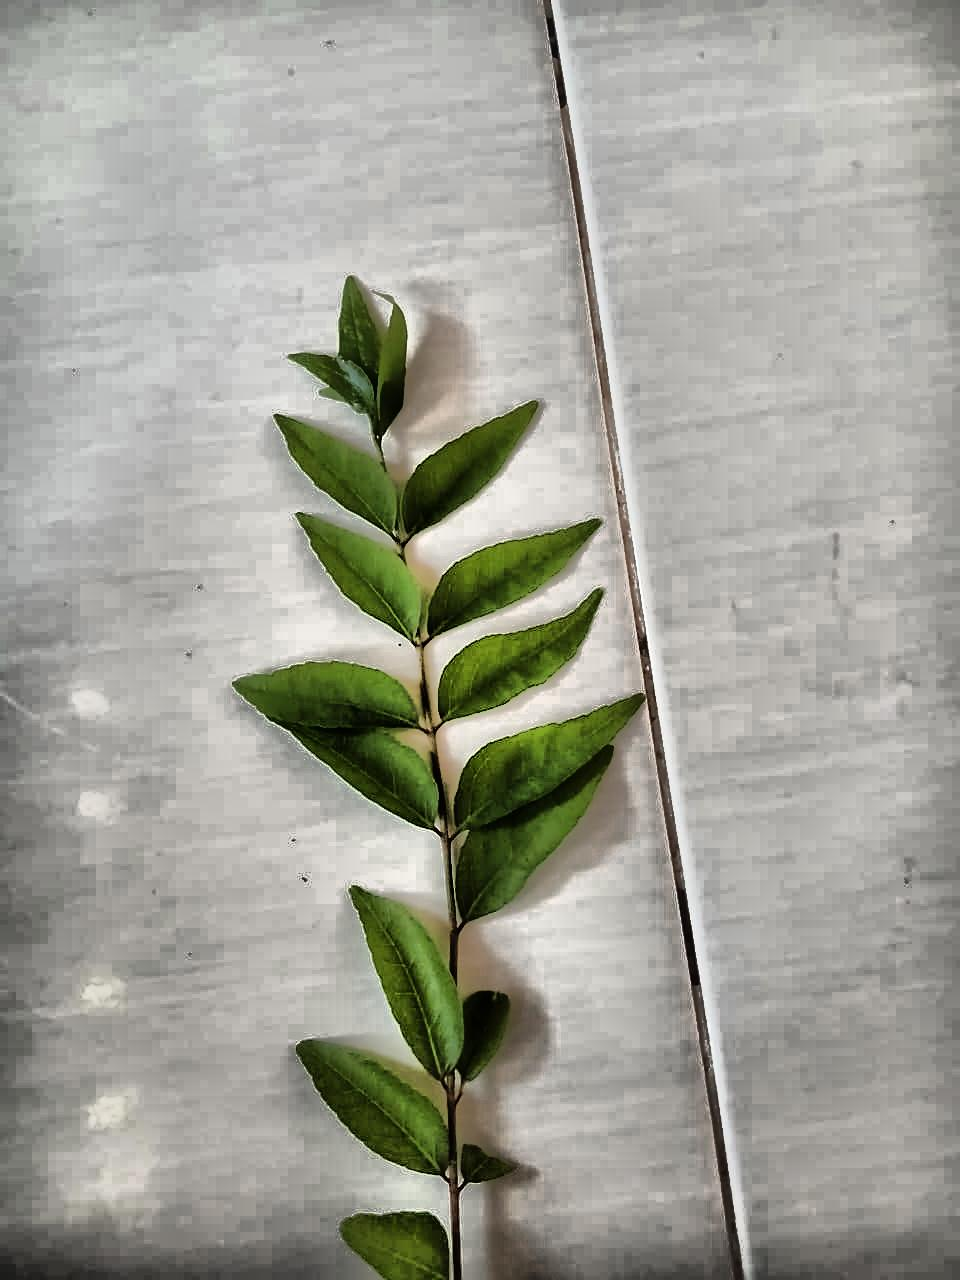daun kari: (232, 277, 644, 1279)
